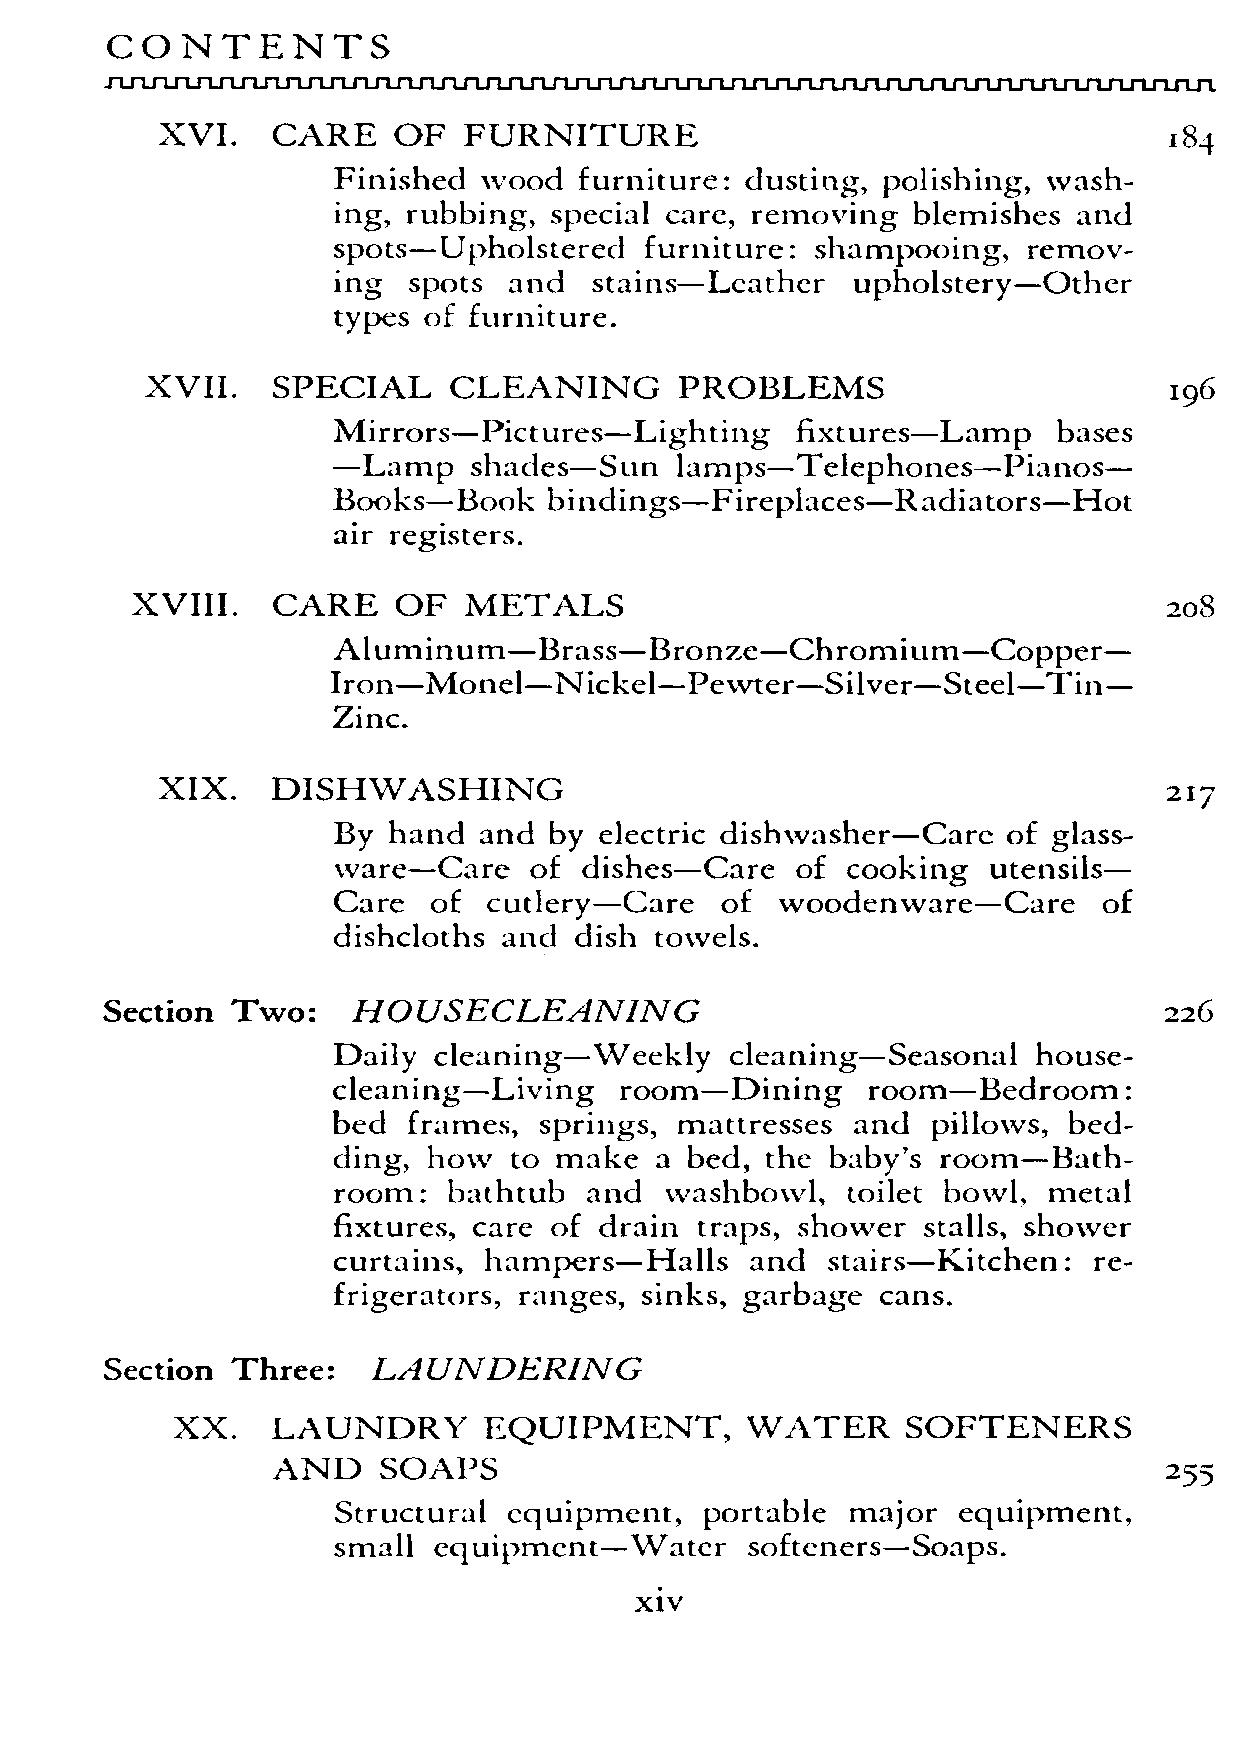TOC_chapter: (91, 994, 1131, 1311), (93, 1349, 1129, 1576), (150, 109, 1137, 326), (137, 360, 1137, 553), (146, 754, 1137, 947), (121, 580, 1129, 730)
TOC_pagenumber: (1155, 1447, 1221, 1499), (1162, 105, 1219, 164), (1159, 761, 1219, 813), (1155, 986, 1219, 1028), (1164, 578, 1219, 625), (1162, 365, 1216, 408)
chapter: (99, 21, 395, 64)
